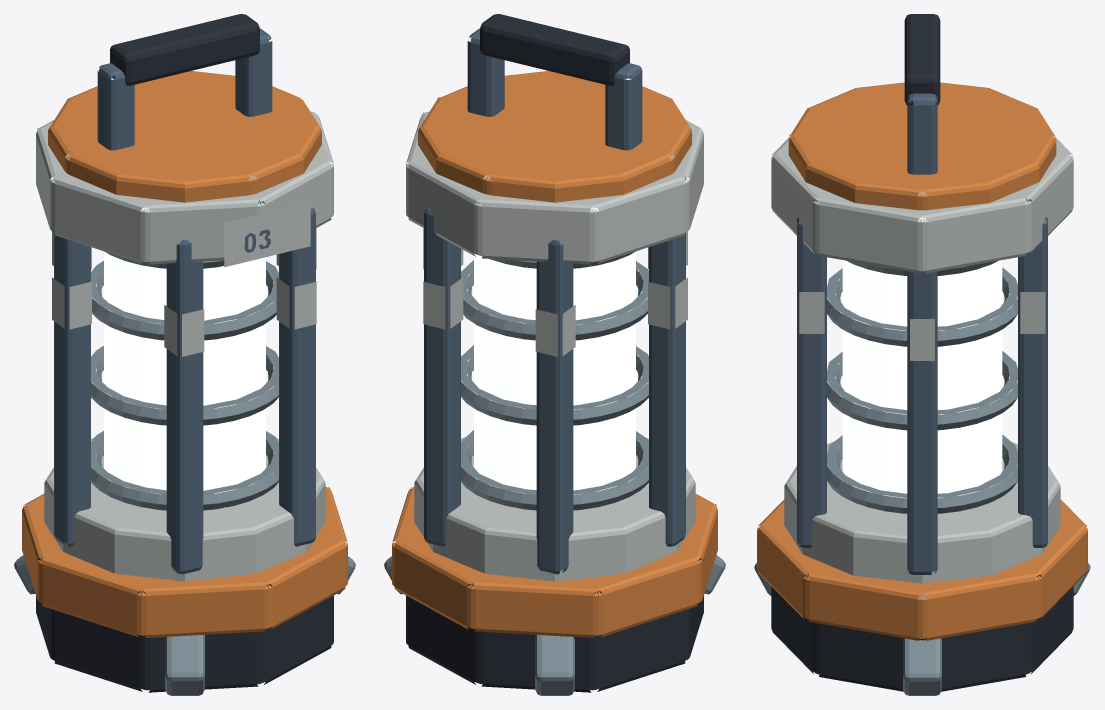
The model's file is power-core.glb.
The picture shows the model from 3 angles, left to right: view 1: azimuth 30°, elevation 25°; view 2: azimuth 150°, elevation 25°; view 3: azimuth 270°, elevation 25°; orthographic projection.
Parts seen in each view (by area): view 1: Body, Signal; view 2: Body, Signal; view 3: Body, Signal.
Part boxes in pixels (x1,y1,x2,y2): Body: (14,14,355,695); Signal: (104,208,265,507); Body: (384,14,725,695); Signal: (474,206,635,507); Body: (754,14,1090,695); Signal: (842,216,1002,510).
Bounding box in the file's own units: 0.9898 × 1.83 × 0.948.
